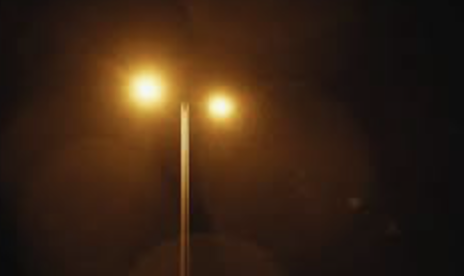HPS: (111, 60, 181, 121), (199, 78, 245, 129)
